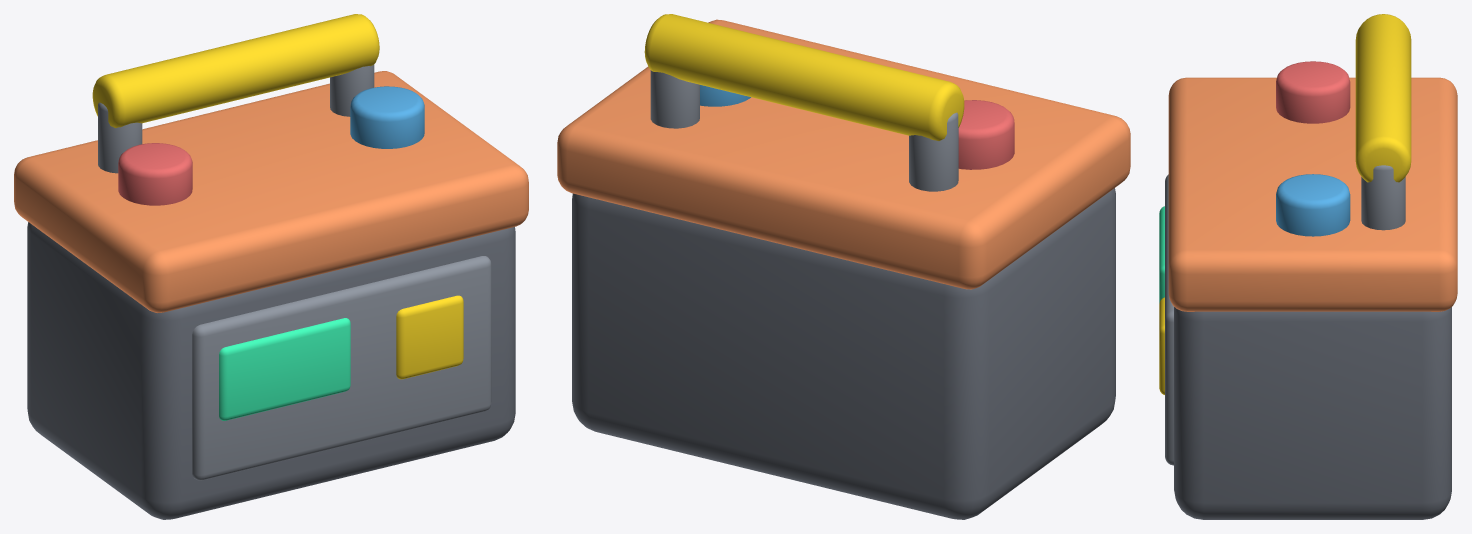
File: SM_PowerBattery.fbx
3 renders of one model, left to right at view 1: azimuth 30°, elevation 25°; view 2: azimuth 150°, elevation 25°; view 3: azimuth 270°, elevation 25°, orthographic. The views are drawn at different scales.
Visible parts, largest first — view 1: SM_PowerBattery; view 2: SM_PowerBattery; view 3: SM_PowerBattery.
Boxes of the visible parts, x1,y1,x2,y2 form: SM_PowerBattery: [14, 14, 528, 519]; SM_PowerBattery: [557, 14, 1130, 519]; SM_PowerBattery: [1159, 14, 1457, 519].
Bounding box in the file's own units: 29.04 × 26.47 × 19.64.
